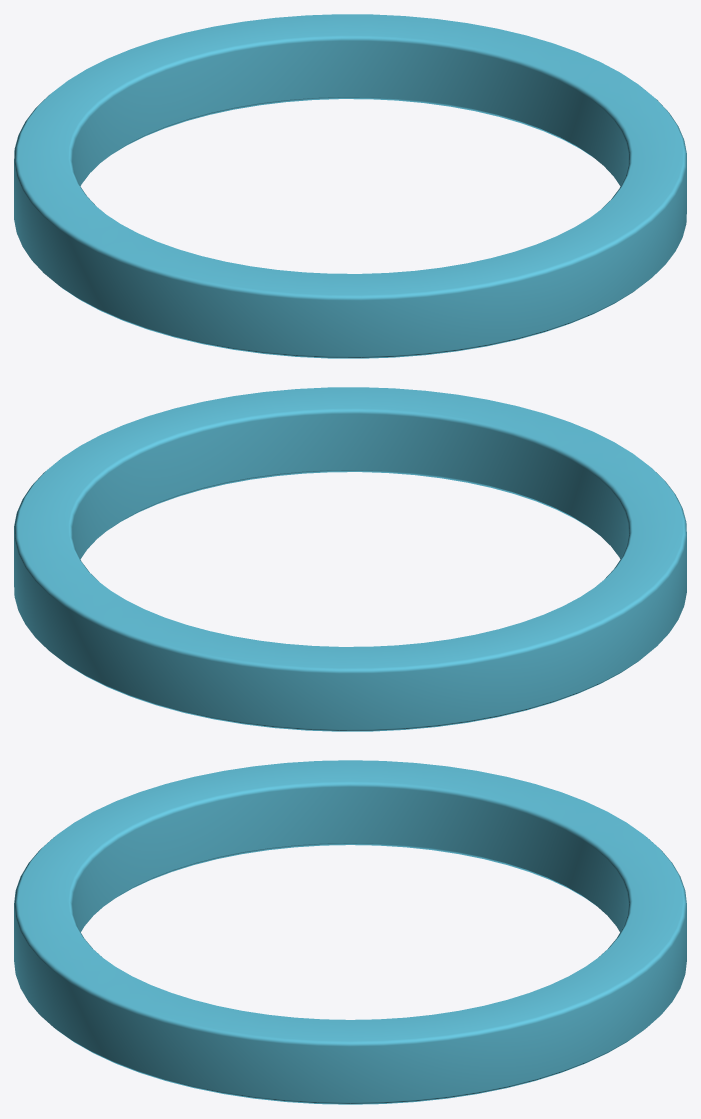
3 renders of one model, top to bottom at view 1: azimuth 30°, elevation 25°; view 2: azimuth 150°, elevation 25°; view 3: azimuth 270°, elevation 25°, orthographic.
Visible parts, largest first — view 1: seal_body; view 2: seal_body; view 3: seal_body.
Boxes of the visible parts, x1,y1,x2,y2 form: seal_body: (14, 14, 686, 358); seal_body: (14, 387, 686, 731); seal_body: (14, 760, 686, 1104).
Bounding box in the file's own units: 0.115 × 0.012 × 0.115.
